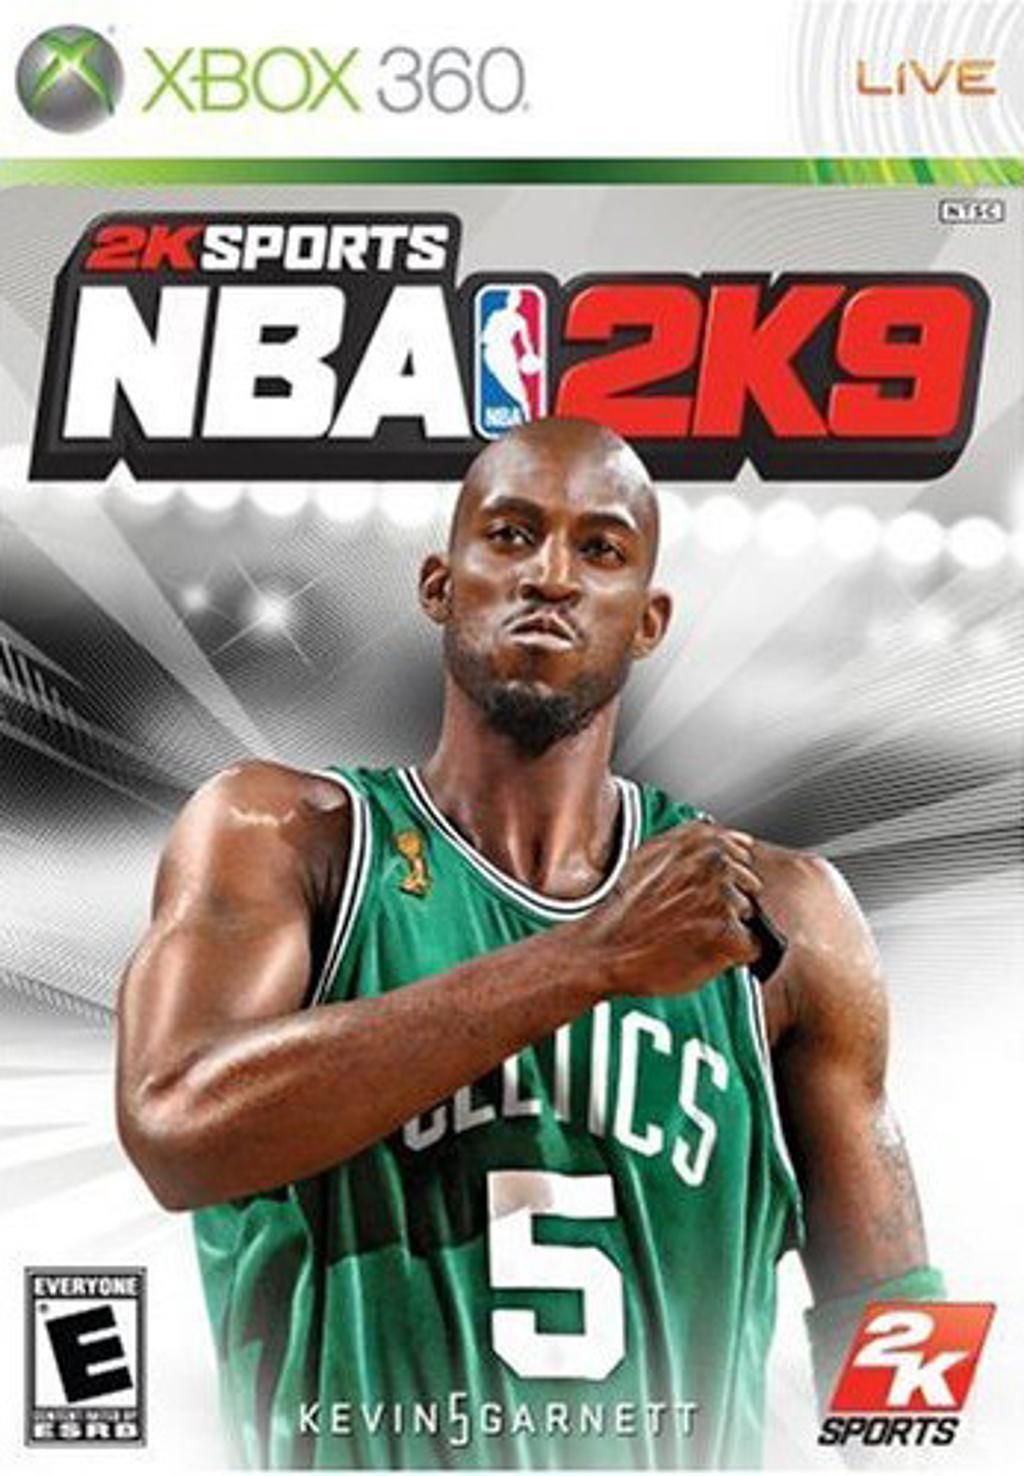face: (445, 428, 658, 716)
